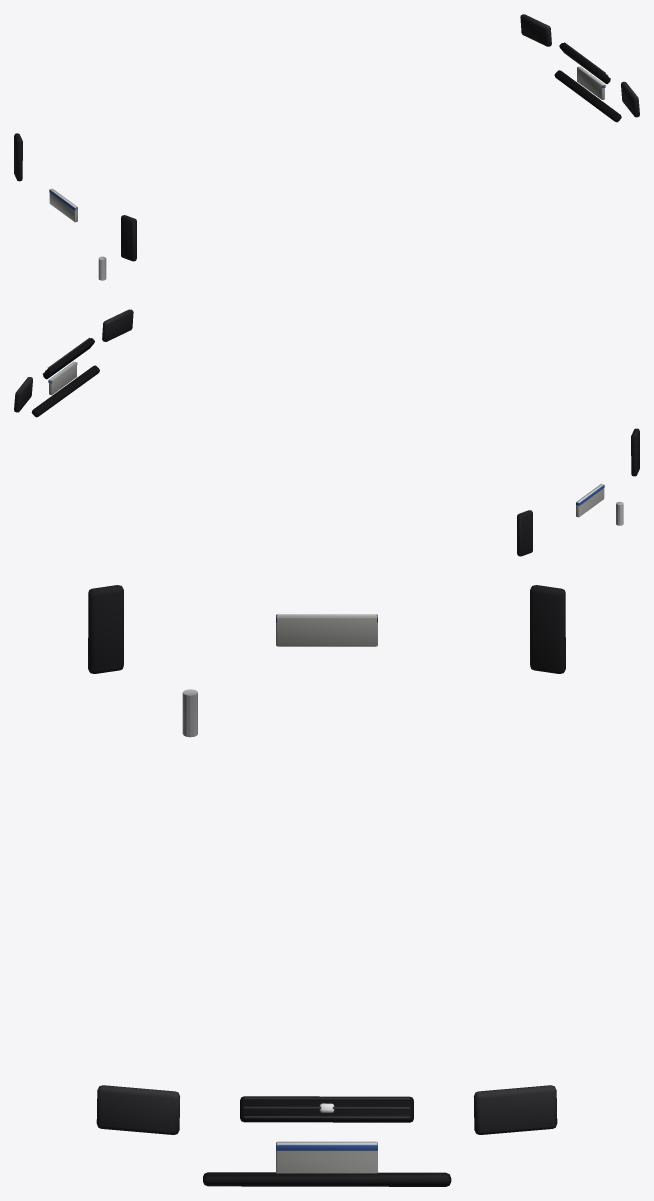
The model's file is Details.glb.
3 renders of one model, top to bottom at view 1: azimuth 30°, elevation 25°; view 2: azimuth 150°, elevation 25°; view 3: azimuth 270°, elevation 25°, orthographic. The views are drawn at different scales.
Parts seen in each view (by area): view 1: Details; view 2: Details; view 3: Details.
Boxes of the visible parts, x1,y1,x2,y2 form: Details: (14, 14, 639, 280); Details: (14, 309, 639, 556); Details: (88, 585, 565, 1186).
Bounding box in the file's own units: 4.82 × 0.6582 × 1.88.
